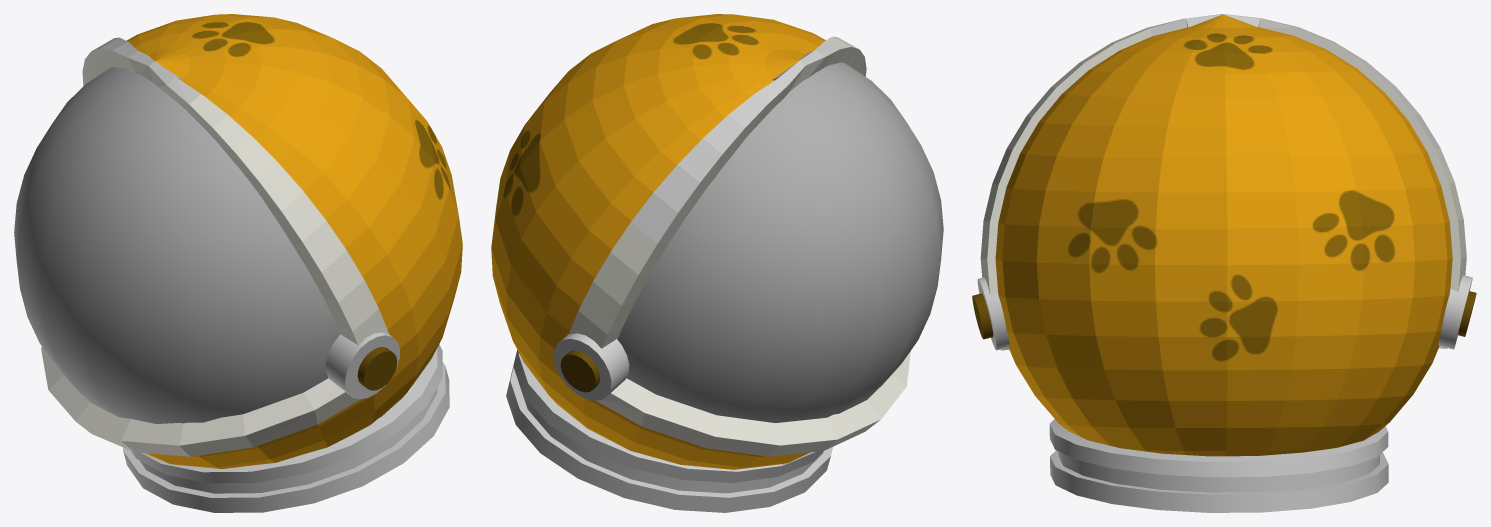
The model's file is ast.helmet.fbx.
The picture shows the model from 3 angles, left to right: view 1: azimuth 30°, elevation 25°; view 2: azimuth 150°, elevation 25°; view 3: azimuth 270°, elevation 25°; orthographic projection.
Parts seen in each view (by area): view 1: pSphere3, pSphere2, pPipe1, pCylinder1, pCylinder4; view 2: pSphere2, pSphere3, pPipe1, pCylinder2, pCylinder3; view 3: pSphere2, pPipe1, pCylinder2, pCylinder1, pCylinder4.
Boxes of the visible parts, x1,y1,x2,y2 form: pSphere3: (14,67,340,423); pSphere2: (41,14,462,468); pPipe1: (123,344,449,512); pCylinder1: (326,332,399,399); pCylinder4: (357,347,397,390); pSphere2: (491,14,910,469); pSphere3: (617,62,943,422); pPipe1: (506,350,832,512); pCylinder2: (553,333,629,400); pCylinder3: (560,350,600,392); pSphere2: (980,14,1466,456); pPipe1: (1049,419,1388,512); pCylinder2: (1438,275,1472,349); pCylinder1: (977,277,1009,350); pCylinder4: (972,293,993,339).
Bounding box in the file's own units: 5.51 × 5.8 × 6.02.
